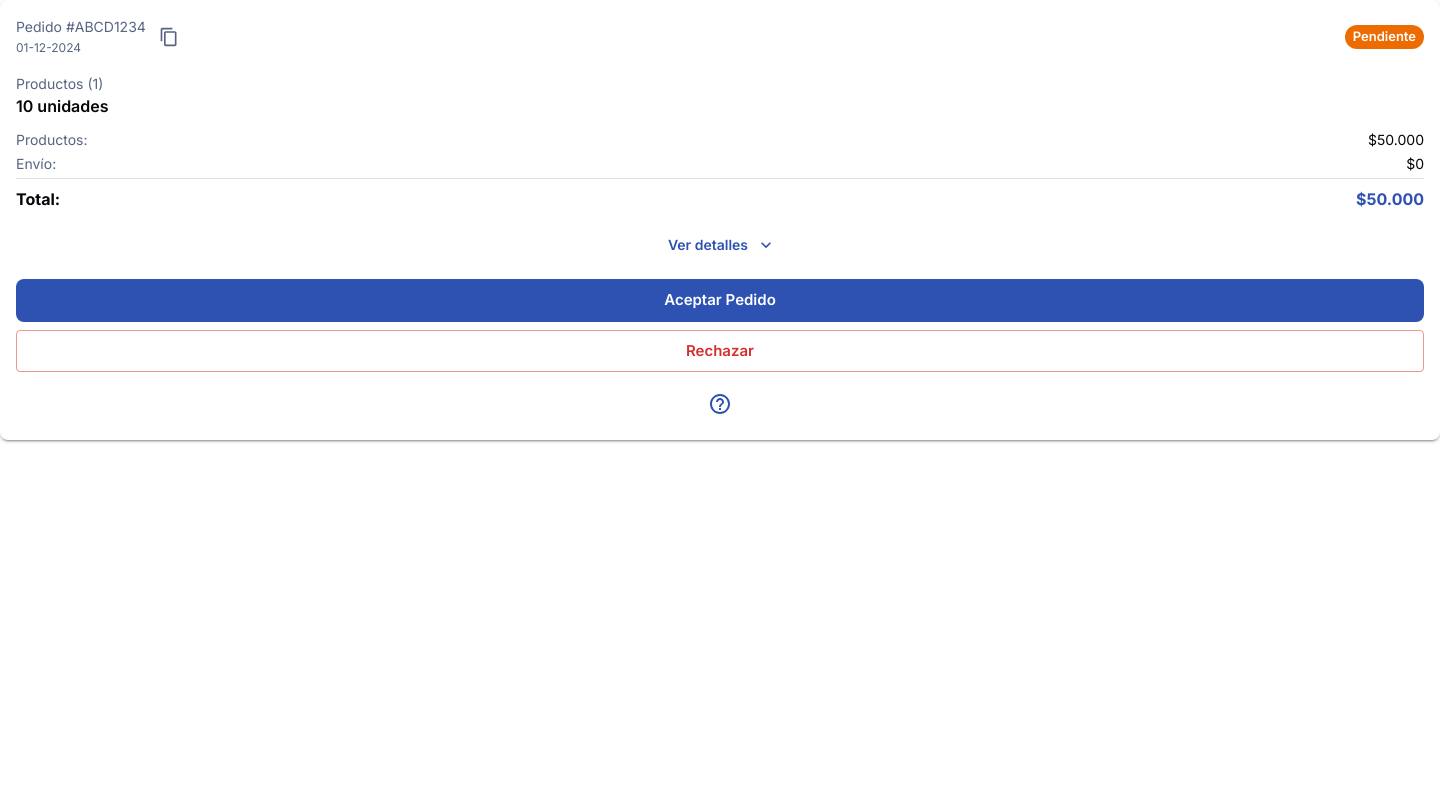
MobileOrderCard Component › Expansión de Detalles › debería expandir/colapsar detalles al hacer click
The image size is (1440, 810).
Expected: the text "Detalle de Productos" is not shown
Click the button "Ver detalles" at [720, 245], box [16,227,1424,263]
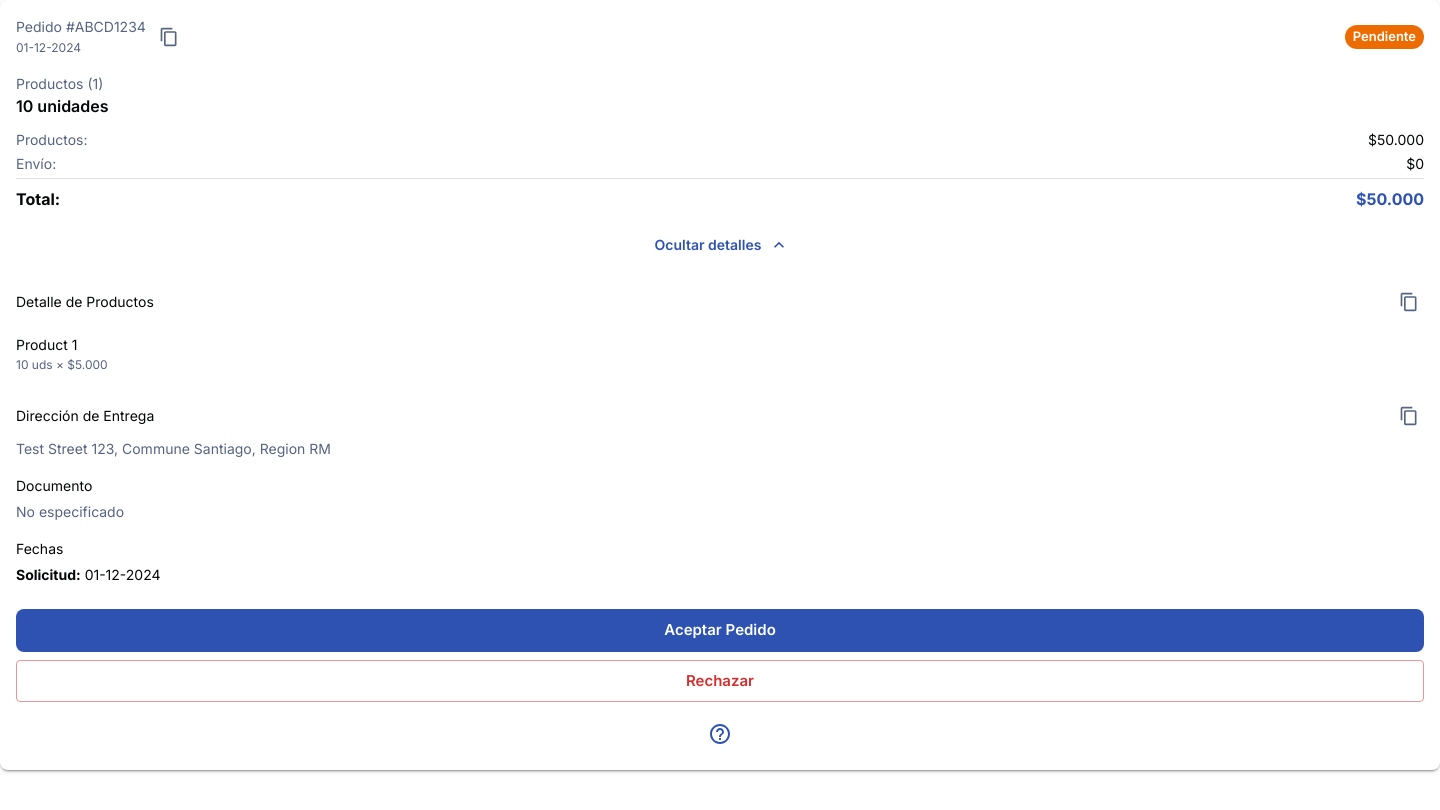
Expected: the heading "Detalle de Productos" is shown, [16,291,154,313]
